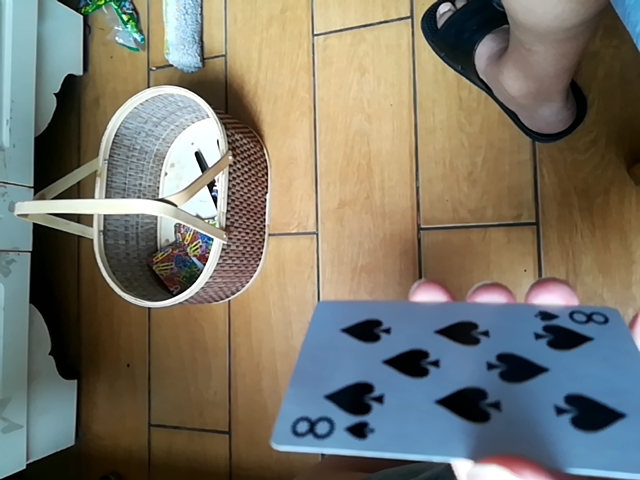ht 8: (273, 298, 632, 475)
